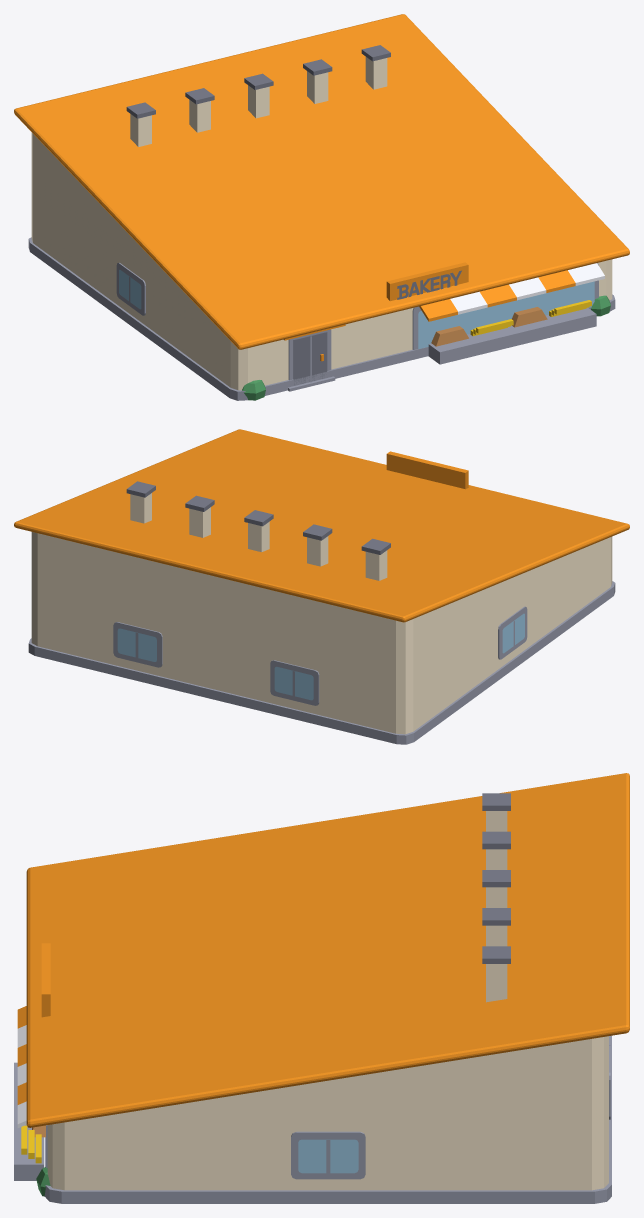
The model's file is bakery-2x2-t5-tone-a.glb.
The picture shows the model from 3 angles, top to bottom: view 1: azimuth 30°, elevation 25°; view 2: azimuth 150°, elevation 25°; view 3: azimuth 270°, elevation 25°; orthographic projection. The views are drawn at different scales.
Visible parts, largest first — view 1: bakery-2x2-t5-tone-a; view 2: bakery-2x2-t5-tone-a; view 3: bakery-2x2-t5-tone-a.
Part boxes in pixels (bbox=[...]): bakery-2x2-t5-tone-a: bbox=[14, 14, 629, 400]; bakery-2x2-t5-tone-a: bbox=[14, 429, 629, 744]; bakery-2x2-t5-tone-a: bbox=[14, 773, 629, 1203].
Bounding box in the file's own units: 2 × 0.7426 × 2.04.
1 material, 1 textured.
